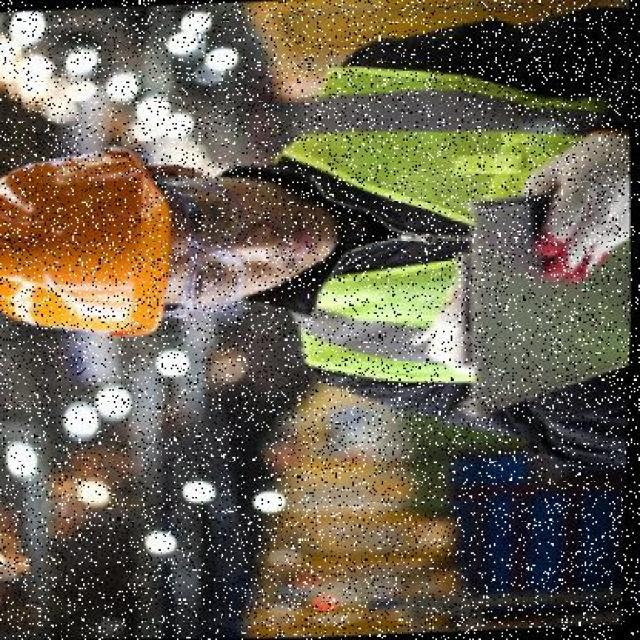helmet: (0, 122, 188, 362)
vest: (288, 45, 632, 403)
